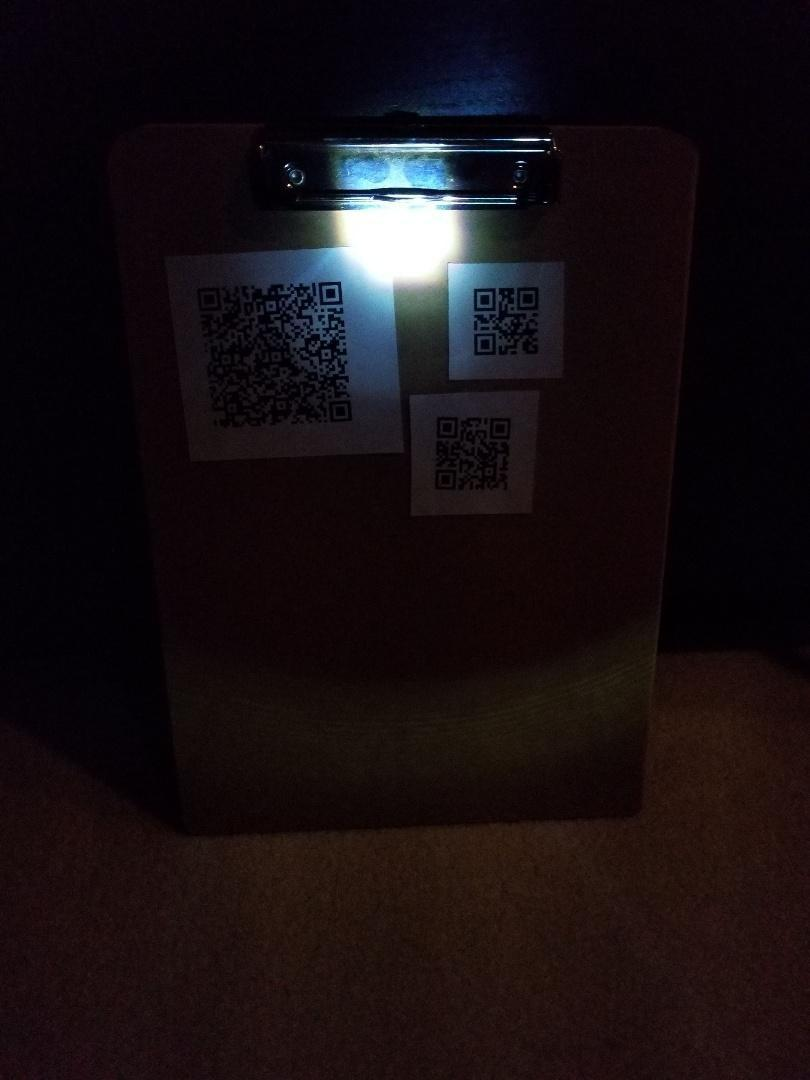Finder pattern: (312, 274, 347, 309), (467, 281, 500, 316), (431, 411, 464, 443), (189, 283, 224, 313), (512, 283, 544, 314), (327, 396, 358, 427), (430, 466, 462, 495), (487, 413, 516, 442), (471, 329, 498, 360)
